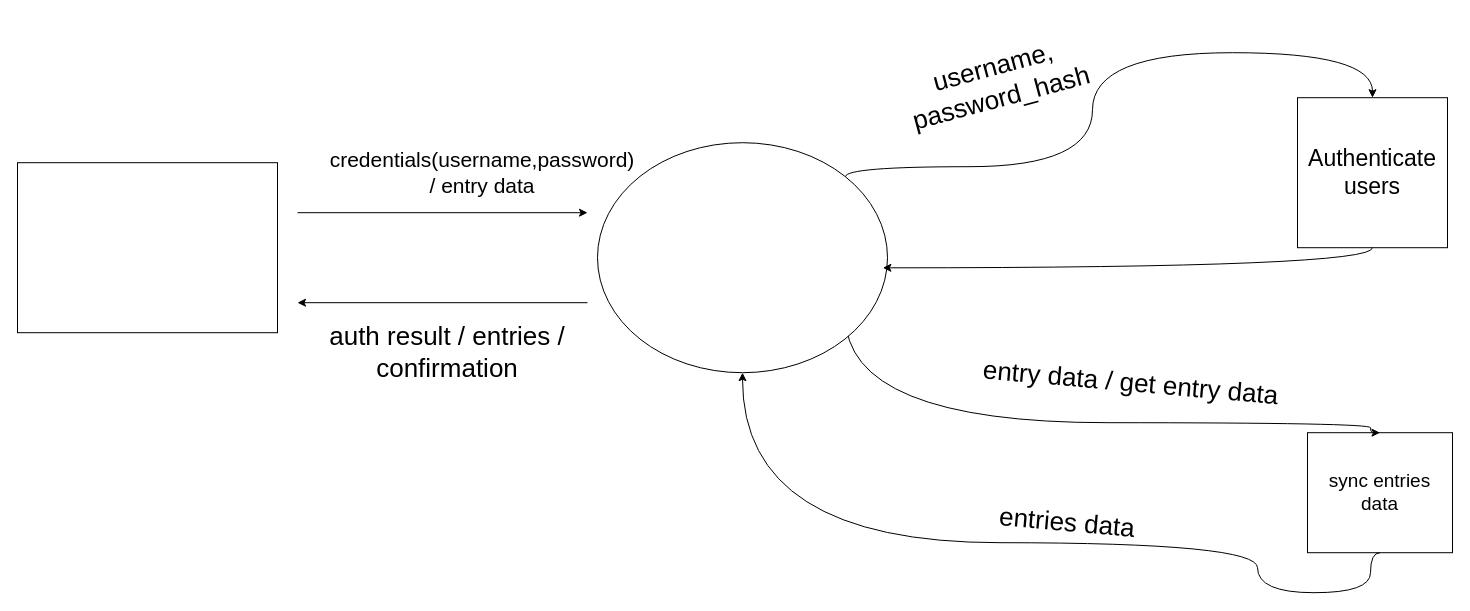
Some shapes in this 1470 by 611 pixel diagram are drawn without their labels. Here are the shapes that lost their labels. From the top down, the centre of each, then its label:
[147,247]: User Client
[742,257]: Claimr-API
